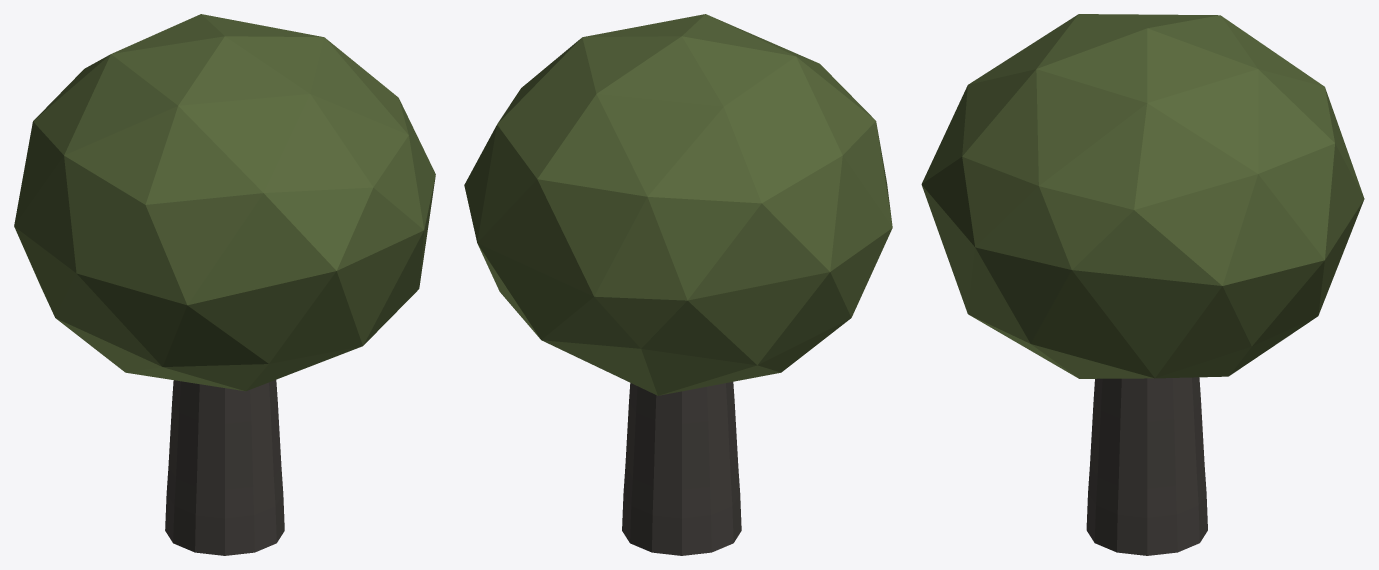
Rendered from Round Tree.fbx.
3 renders of one model, left to right at view 1: azimuth 30°, elevation 25°; view 2: azimuth 150°, elevation 25°; view 3: azimuth 270°, elevation 25°, orthographic.
Parts seen in each view (by area): view 1: Round Tree.002; view 2: Round Tree.002; view 3: Round Tree.002.
Boxes of the visible parts, x1,y1,x2,y2 form: Round Tree.002: (14, 14, 435, 555); Round Tree.002: (464, 14, 892, 555); Round Tree.002: (921, 14, 1364, 555).
Bounding box in the file's own units: 410 × 538 × 430.
